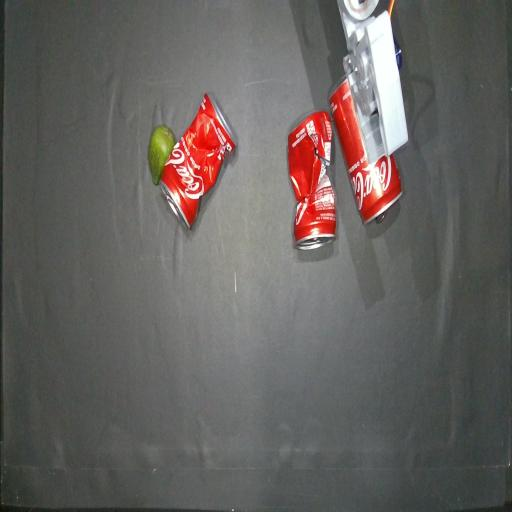higo: (148, 125, 174, 185)
lata: (329, 75, 402, 224)
lata_defectuoso: (161, 93, 235, 228), (288, 111, 335, 248)
